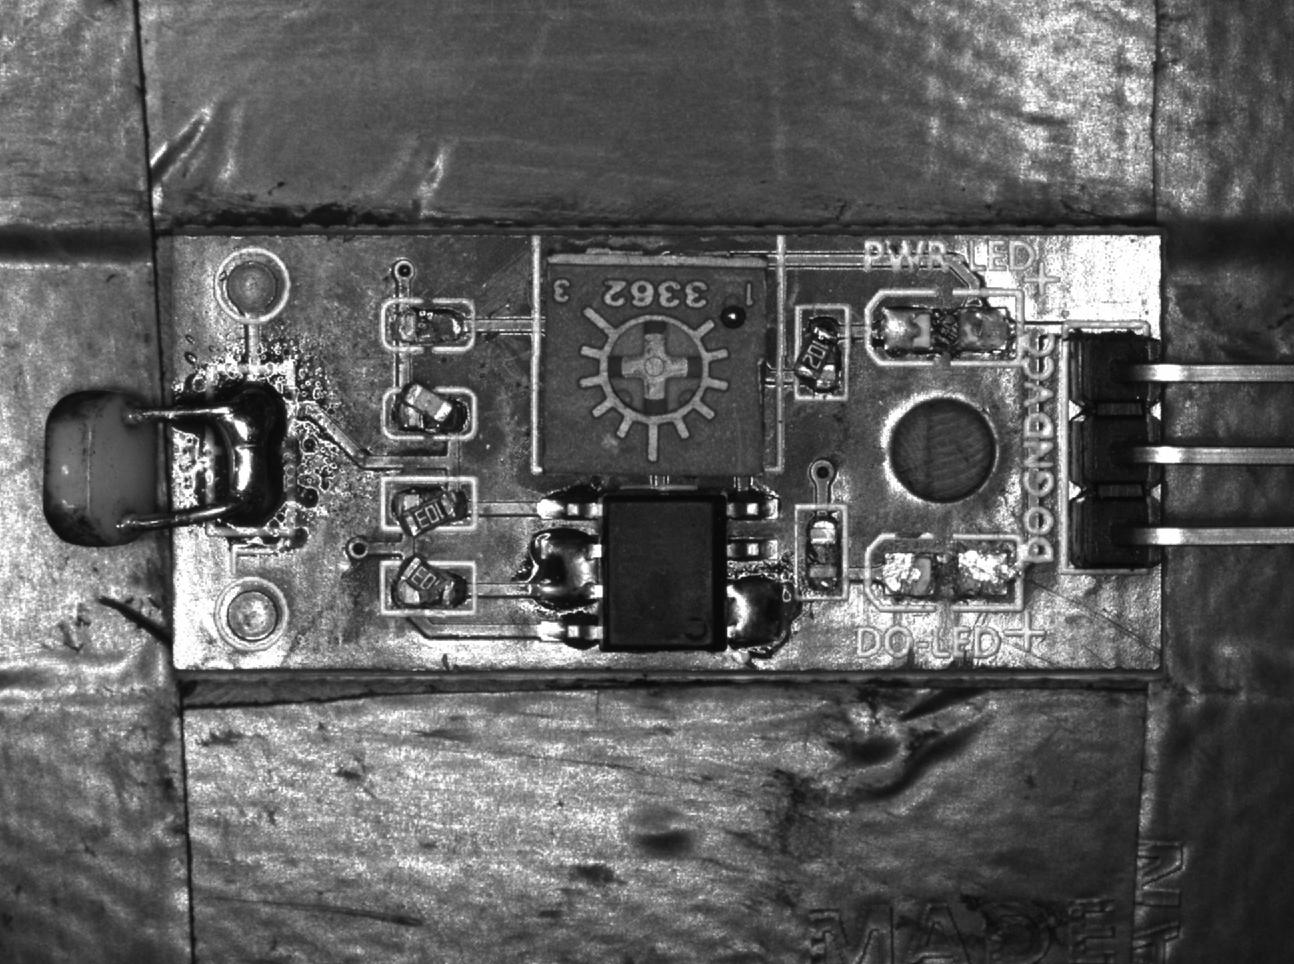bridge: (203, 366, 299, 544), (516, 519, 603, 613), (726, 565, 788, 655)
lifted: (797, 507, 848, 600), (384, 301, 473, 350)
ok: (791, 306, 852, 404), (382, 478, 476, 537), (381, 560, 475, 615), (386, 384, 476, 438)
